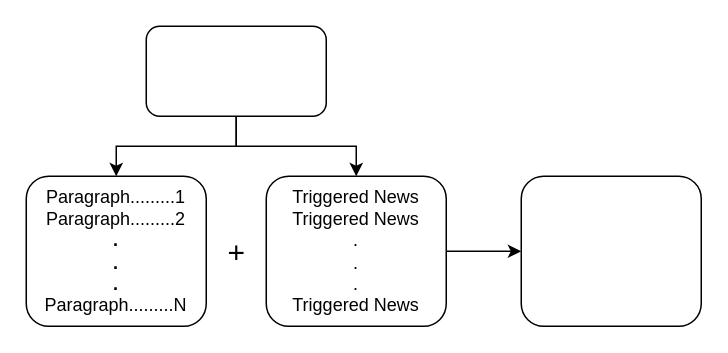
Image size: 728x353. Some labels were removed from this diagram. The shapes that lost their labels are listed below. From the top down, each one's box as (x1, y1, x2, y2) in pixels, then its label:
(145, 25, 326, 116): Non-updated Article ------------------ Triggered News
(520, 175, 701, 326): Edited or Not Edited or Not . . . Edited or Not
